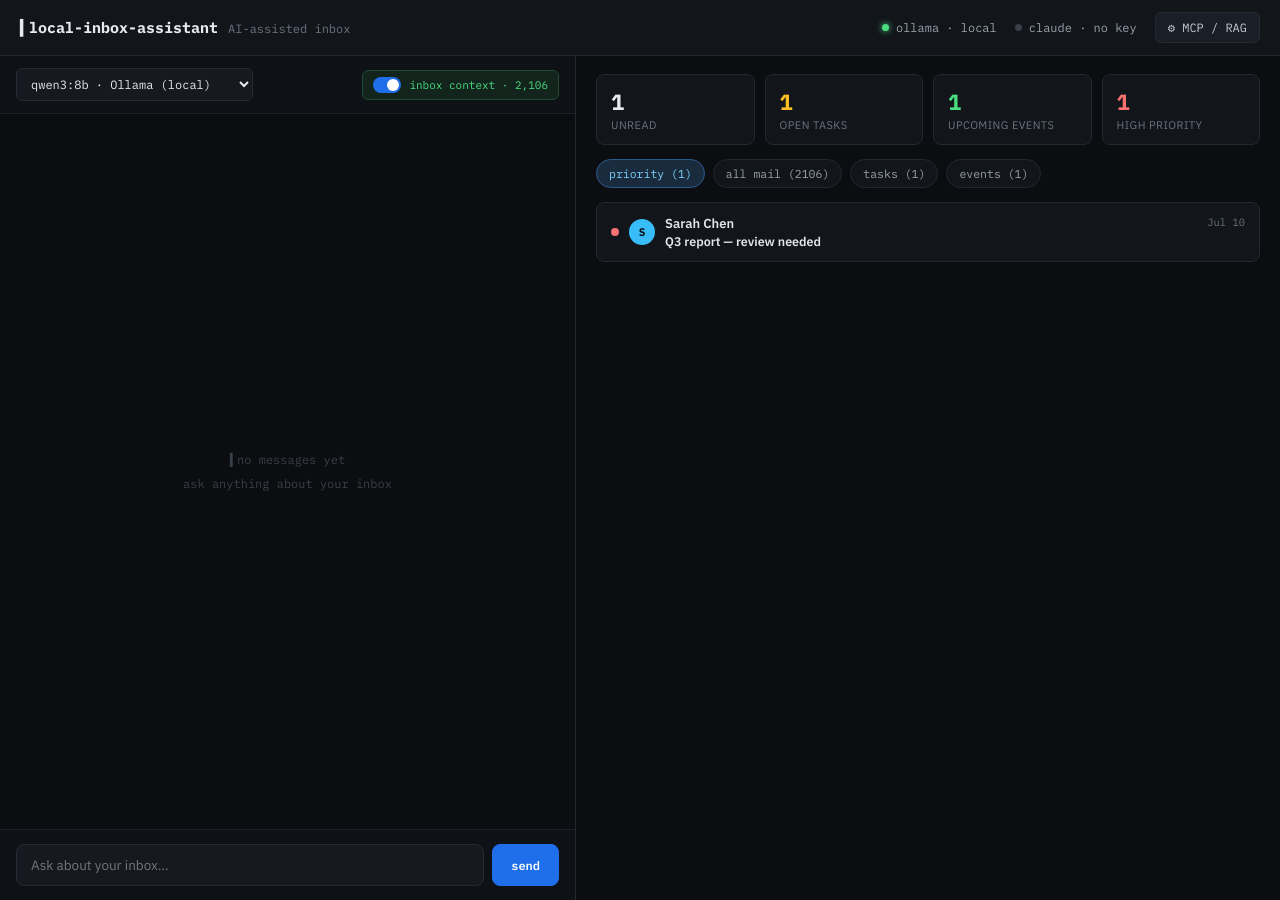
Test: App › jumps to the source email in all mail from the task view
Click the button "tasks (1)" at (894, 174), box [850,159,938,188]
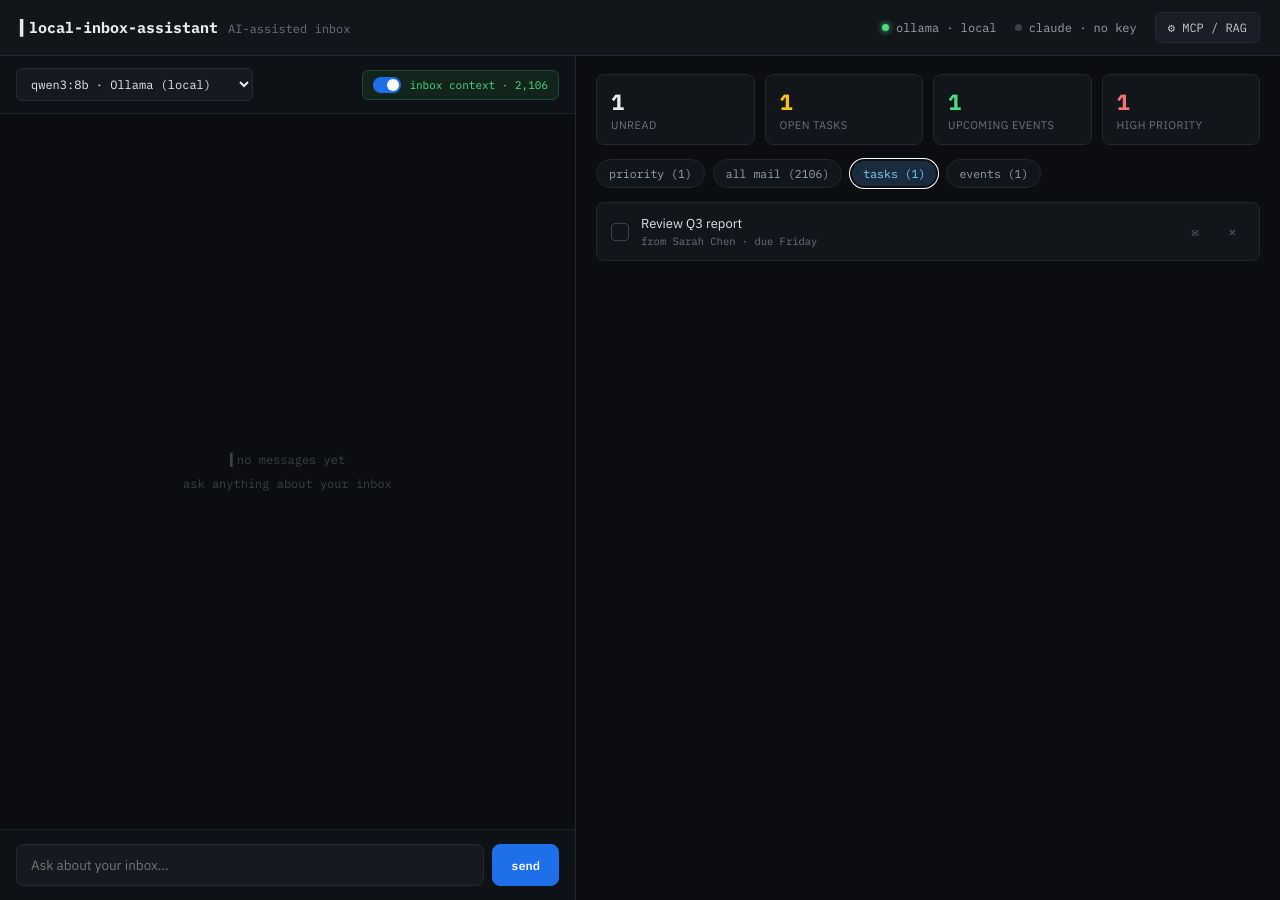
Expected: the text "Review Q3 report" is shown, [641,215,742,232]
Click the button titled "Show source email in all mail" at (1195, 232), box [1182,219,1208,244]
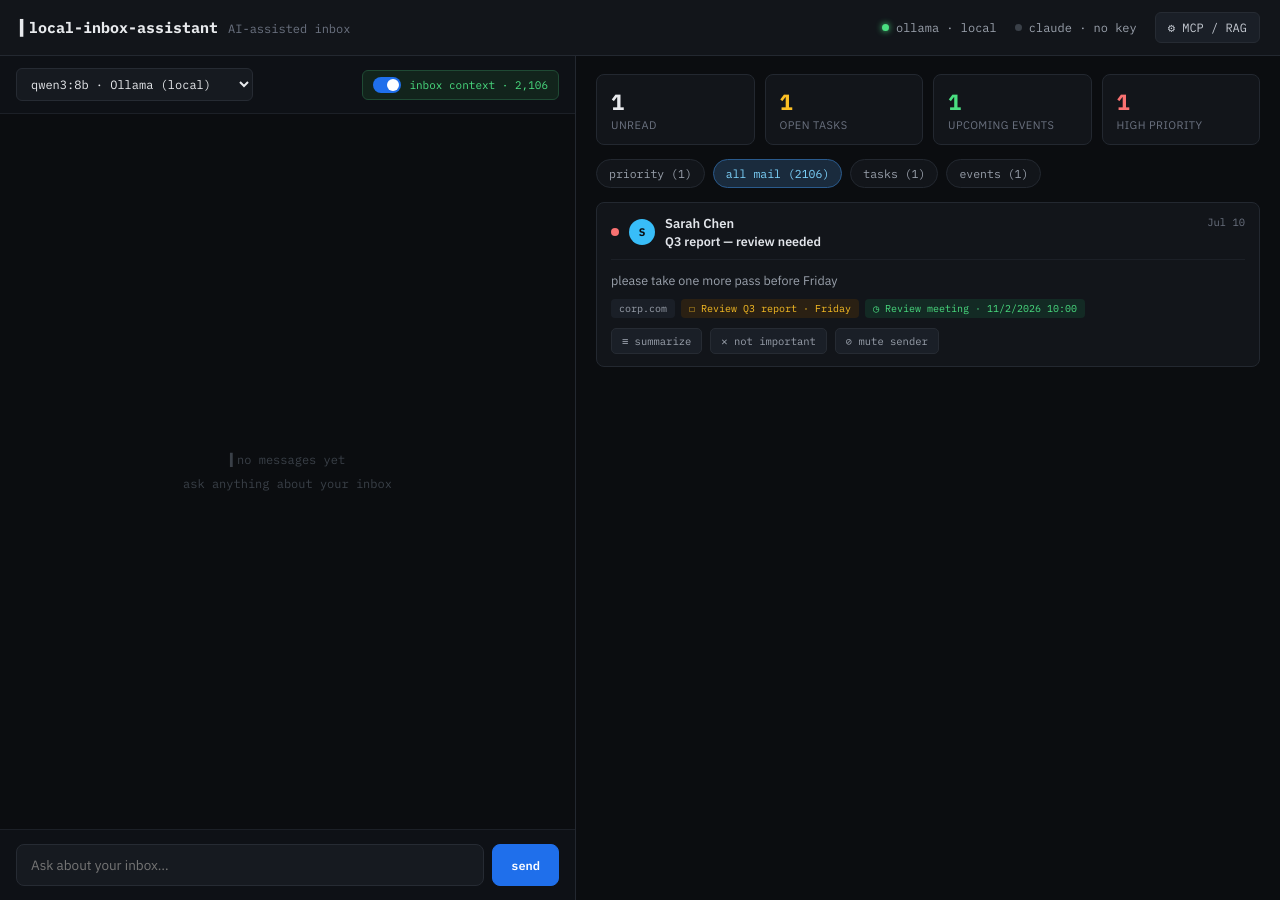
Expected: the text "please take one more pass before Friday" is shown, [611,272,838,288]
